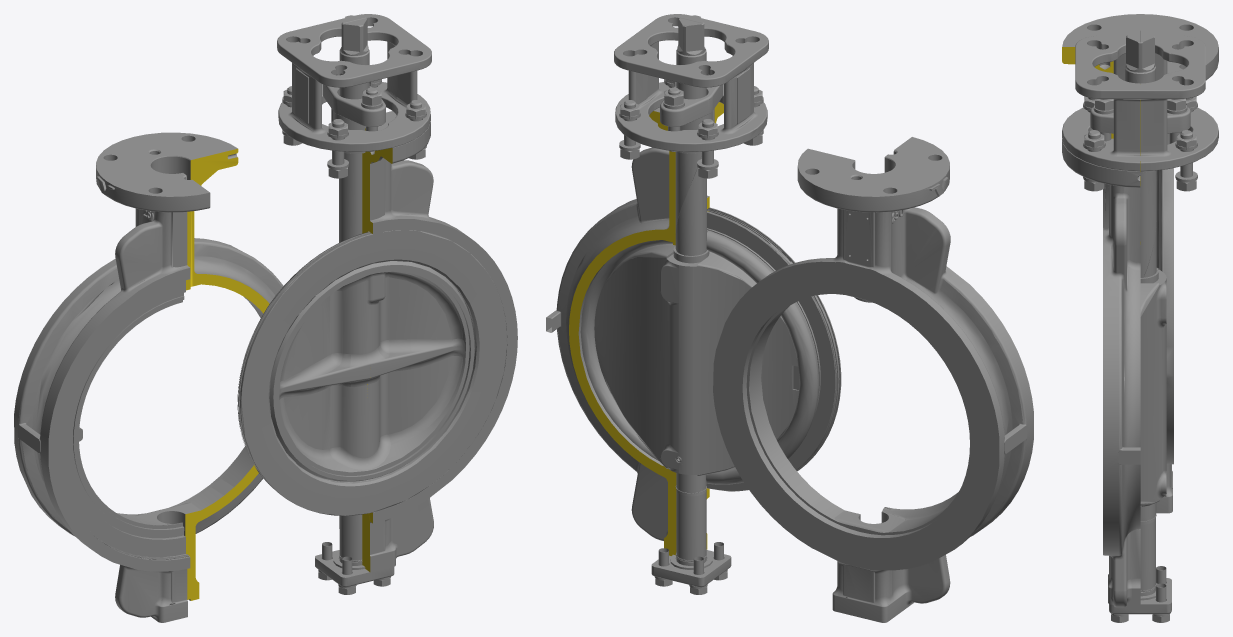
3 views of the same model, side by side, from view 1: azimuth 30°, elevation 25°; view 2: azimuth 150°, elevation 25°; view 3: azimuth 270°, elevation 25° (orthographic). The views are drawn at different scales.
Parts seen in each view (by area): view 1: Body, DISC_B, DISC, Body_B, RETAINER, RETAINER_B, YOKE, YOKE_B, BUSHING_Up, SHAFT, GLAND, BOTTOM COVER (+1 smaller); view 2: Body, Body_B, DISC_B, DISC, YOKE, RETAINER, DISC_A, BUSHING_Up, DISC_C, BUSHING_Down, SHAFT, YOKE_B (+2 smaller); view 3: Body_B, YOKE, Body, DISC_B, YOKE_B, BUSHING_Up, SHAFT, BUSHING_Down, BOTTOM COVER, GLAND, GLAND_B, YOKE_NUT (+4 smaller).
Boxes of the visible parts, box(x1,y1,x2,y2) form: Body: box(14, 132, 283, 622); DISC_B: box(367, 261, 474, 478); DISC: box(269, 264, 372, 481); Body_B: box(362, 111, 517, 572); RETAINER: box(237, 232, 372, 515); RETAINER_B: box(369, 230, 507, 512); YOKE: box(277, 14, 419, 151); YOKE_B: box(378, 33, 431, 147); BUSHING_Up: box(339, 152, 364, 242); SHAFT: box(339, 15, 369, 99); GLAND: box(323, 84, 378, 130); BOTTOM COVER: box(315, 550, 369, 587); Body: box(713, 137, 1033, 622); Body_B: box(546, 102, 723, 555); DISC_B: box(594, 244, 681, 473); DISC: box(678, 251, 799, 475); YOKE: box(614, 23, 768, 151); RETAINER: box(706, 207, 841, 491); DISC_A: box(706, 231, 818, 484); BUSHING_Up: box(673, 151, 709, 263); DISC_C: box(580, 240, 672, 460); BUSHING_Down: box(675, 473, 706, 561); SHAFT: box(676, 15, 706, 255); YOKE_B: box(626, 14, 723, 110); Body_B: box(1062, 138, 1140, 607); YOKE: box(1062, 35, 1218, 171); Body: box(1062, 14, 1218, 513); DISC_B: box(1140, 277, 1166, 506); YOKE_B: box(1062, 62, 1140, 171); BUSHING_Up: box(1140, 170, 1158, 283); SHAFT: box(1125, 30, 1155, 277); BUSHING_Down: box(1140, 503, 1156, 591); BOTTOM COVER: box(1140, 578, 1171, 614); GLAND: box(1090, 107, 1190, 133); GLAND_B: box(1090, 109, 1113, 133); YOKE_NUT: box(1084, 96, 1196, 149).
Size of the model in its own units: 53.41 by 60.65 by 15.
